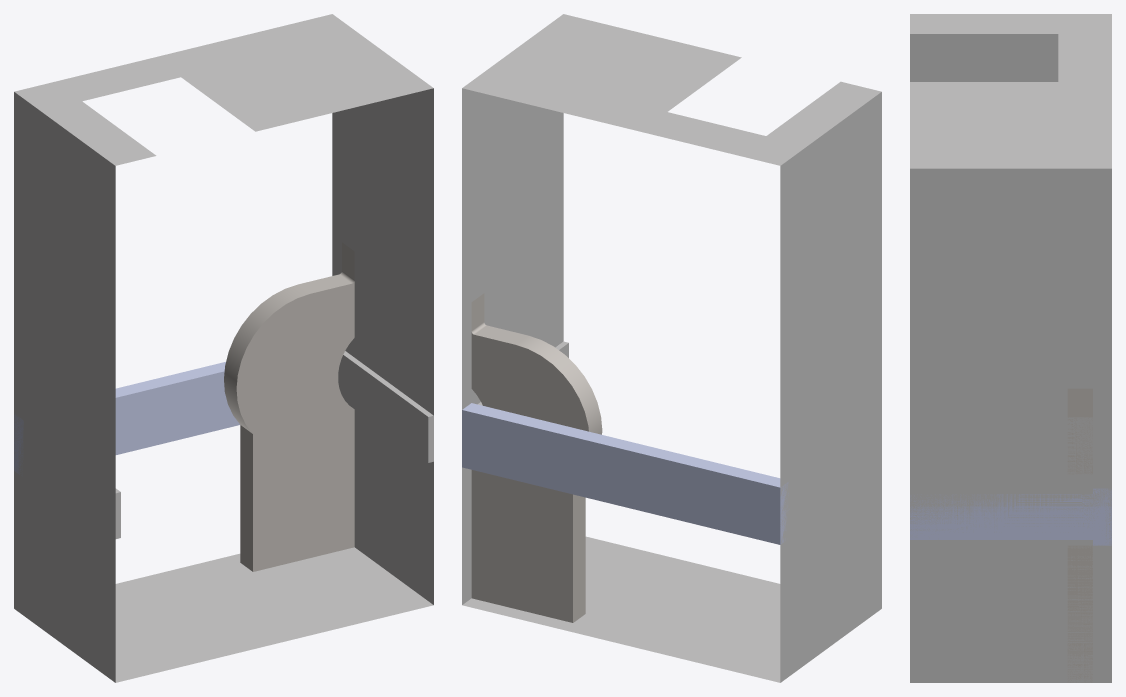
Rendered from Планировка.obj.
3 views of the same model, side by side, from view 1: azimuth 30°, elevation 25°; view 2: azimuth 150°, elevation 25°; view 3: azimuth 270°, elevation 25° (orthographic).
Visible parts, largest first — view 1: unnamed1, unnamed4, unnamed3, unnamed5, unnamed6, unnamed7, unnamed2; view 2: unnamed1, unnamed5, unnamed4, unnamed3, unnamed7, unnamed2; view 3: unnamed1, unnamed5, unnamed4, unnamed3, unnamed2.
Boxes of the visible parts, x1,y1,x2,y2 form: unnamed1: (14, 14, 433, 682); unnamed4: (240, 409, 354, 571); unnamed3: (224, 271, 354, 433); unnamed5: (14, 362, 239, 475); unnamed6: (338, 351, 433, 462); unnamed7: (23, 426, 120, 538); unnamed2: (224, 242, 354, 433); unnamed1: (462, 14, 881, 682); unnamed5: (462, 403, 789, 544); unnamed4: (471, 470, 585, 622); unnamed3: (471, 325, 600, 433); unnamed7: (790, 419, 881, 531); unnamed2: (471, 293, 602, 434); unnamed1: (910, 14, 1111, 682); unnamed5: (910, 488, 1111, 545); unnamed4: (1067, 545, 1092, 682); unnamed3: (1067, 417, 1092, 474); unnamed2: (1067, 388, 1092, 417).
Size of the model in its own units: 5800 by 9000 by 3200.
